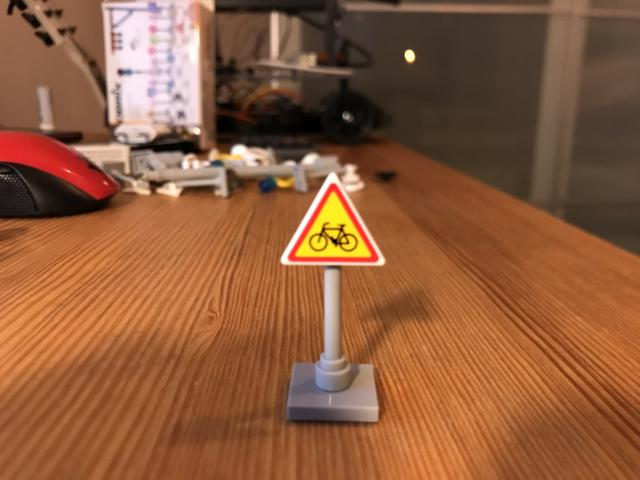radfahrer: (280, 173, 386, 268)
